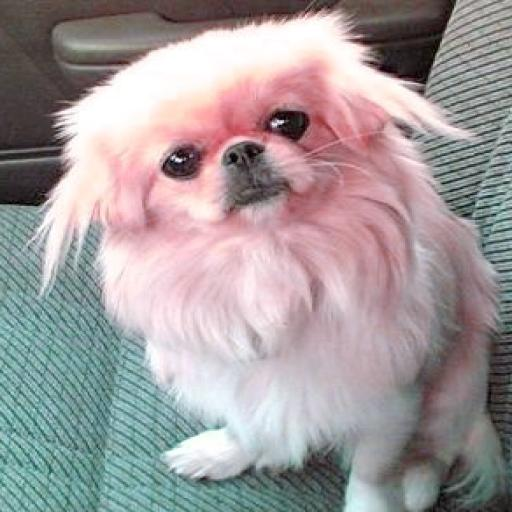dog_face: (54, 39, 440, 258)
